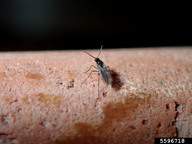Fruit fly: (79, 43, 122, 93)
